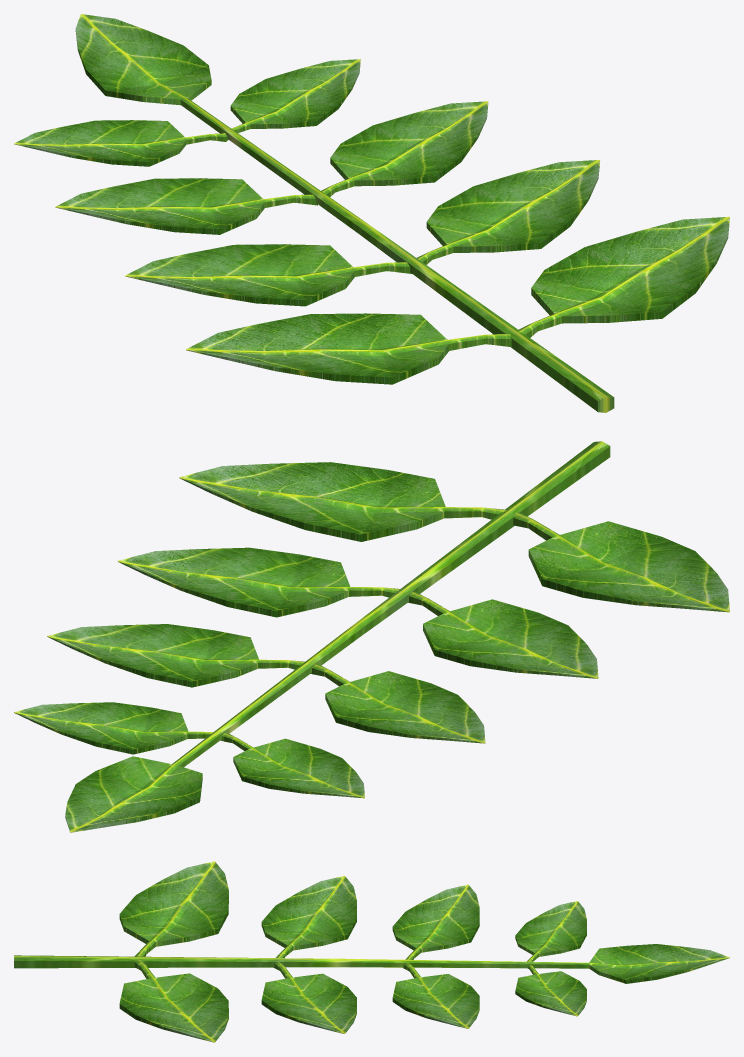
File: LeafNew3.fbx
The picture shows the model from 3 angles, top to bottom: view 1: azimuth 30°, elevation 25°; view 2: azimuth 150°, elevation 25°; view 3: azimuth 270°, elevation 25°; orthographic projection. The views are drawn at different scales.
Parts seen in each view (by area): view 1: Box005, Box004, Box003, Box001, Box002; view 2: Box005, Box004, Box003, Box001, Box002; view 3: Box005, Box004, Box001, Box003, Box002.
Part boxes in pixels (bbox=[...]): Box005: bbox=[186, 216, 729, 384]; Box004: bbox=[125, 160, 599, 306]; Box003: bbox=[55, 101, 488, 234]; Box001: bbox=[75, 14, 614, 412]; Box002: bbox=[14, 59, 360, 166]; Box005: bbox=[179, 462, 729, 612]; Box004: bbox=[117, 547, 598, 678]; Box003: bbox=[47, 624, 485, 743]; Box001: bbox=[65, 441, 610, 832]; Box002: bbox=[14, 702, 364, 798]; Box005: bbox=[119, 861, 228, 1042]; Box004: bbox=[261, 876, 356, 1033]; Box001: bbox=[14, 944, 729, 983]; Box003: bbox=[392, 884, 479, 1028]; Box002: bbox=[515, 901, 586, 1016].
Bounding box in the file's own units: 62.55 × 3.41 × 105.
